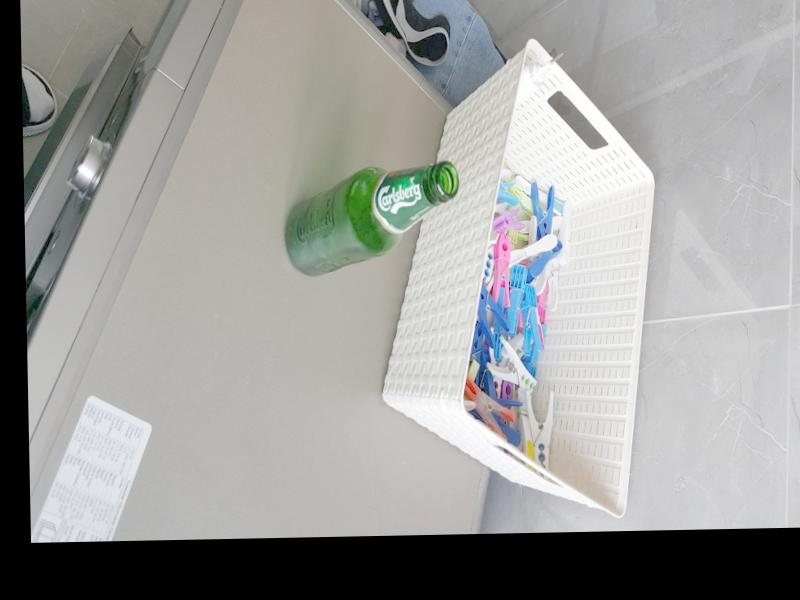Beer: (283, 161, 461, 277)
